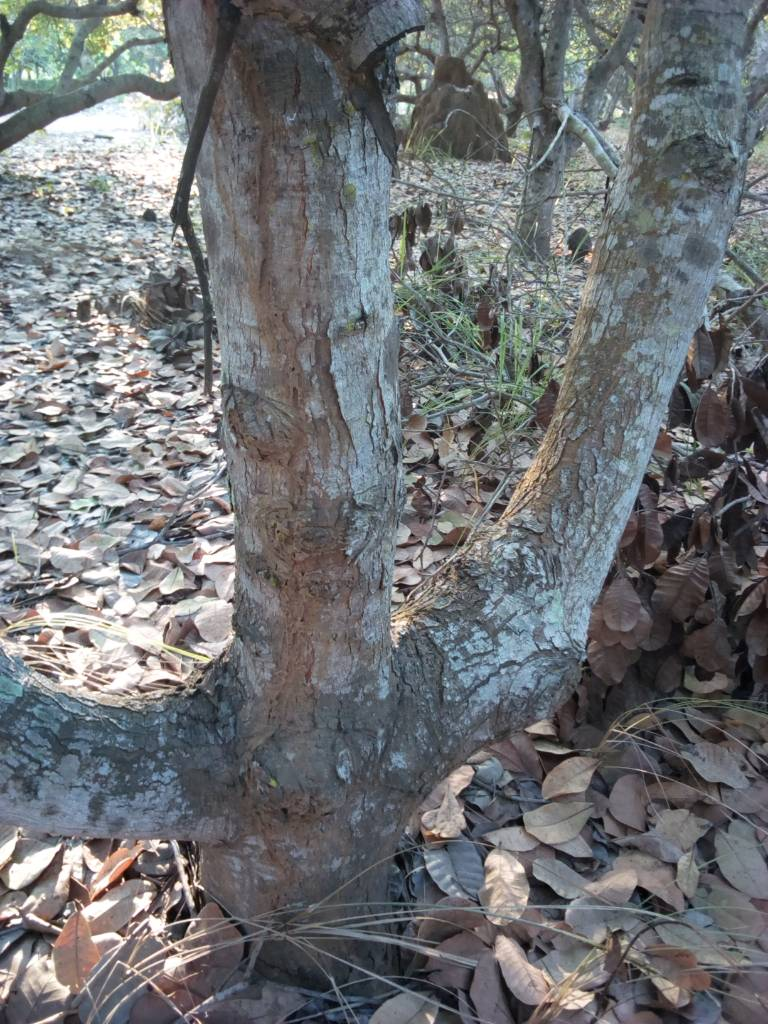Termites: (236, 78, 360, 741), (232, 788, 397, 877)
